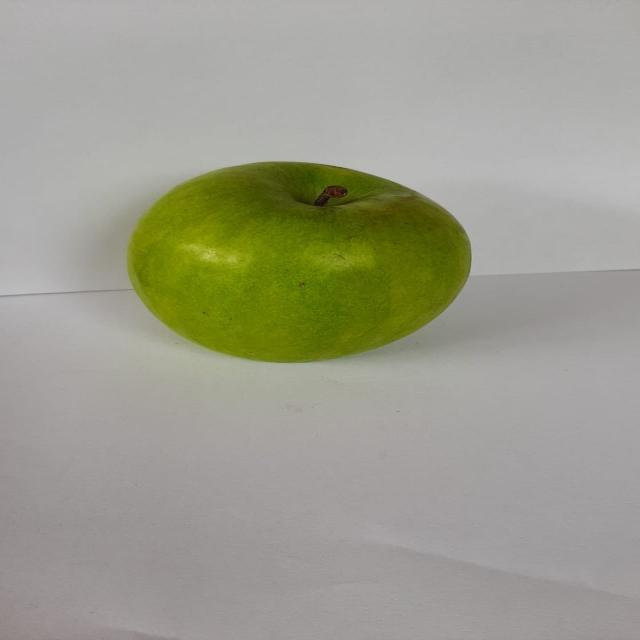50-_ripeness: (114, 154, 483, 374)
